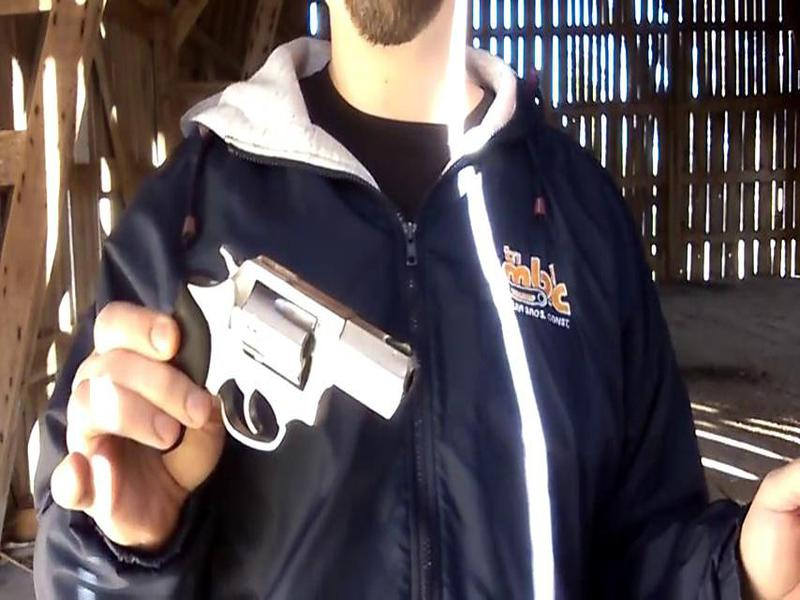Revolver: (83, 237, 435, 493)
